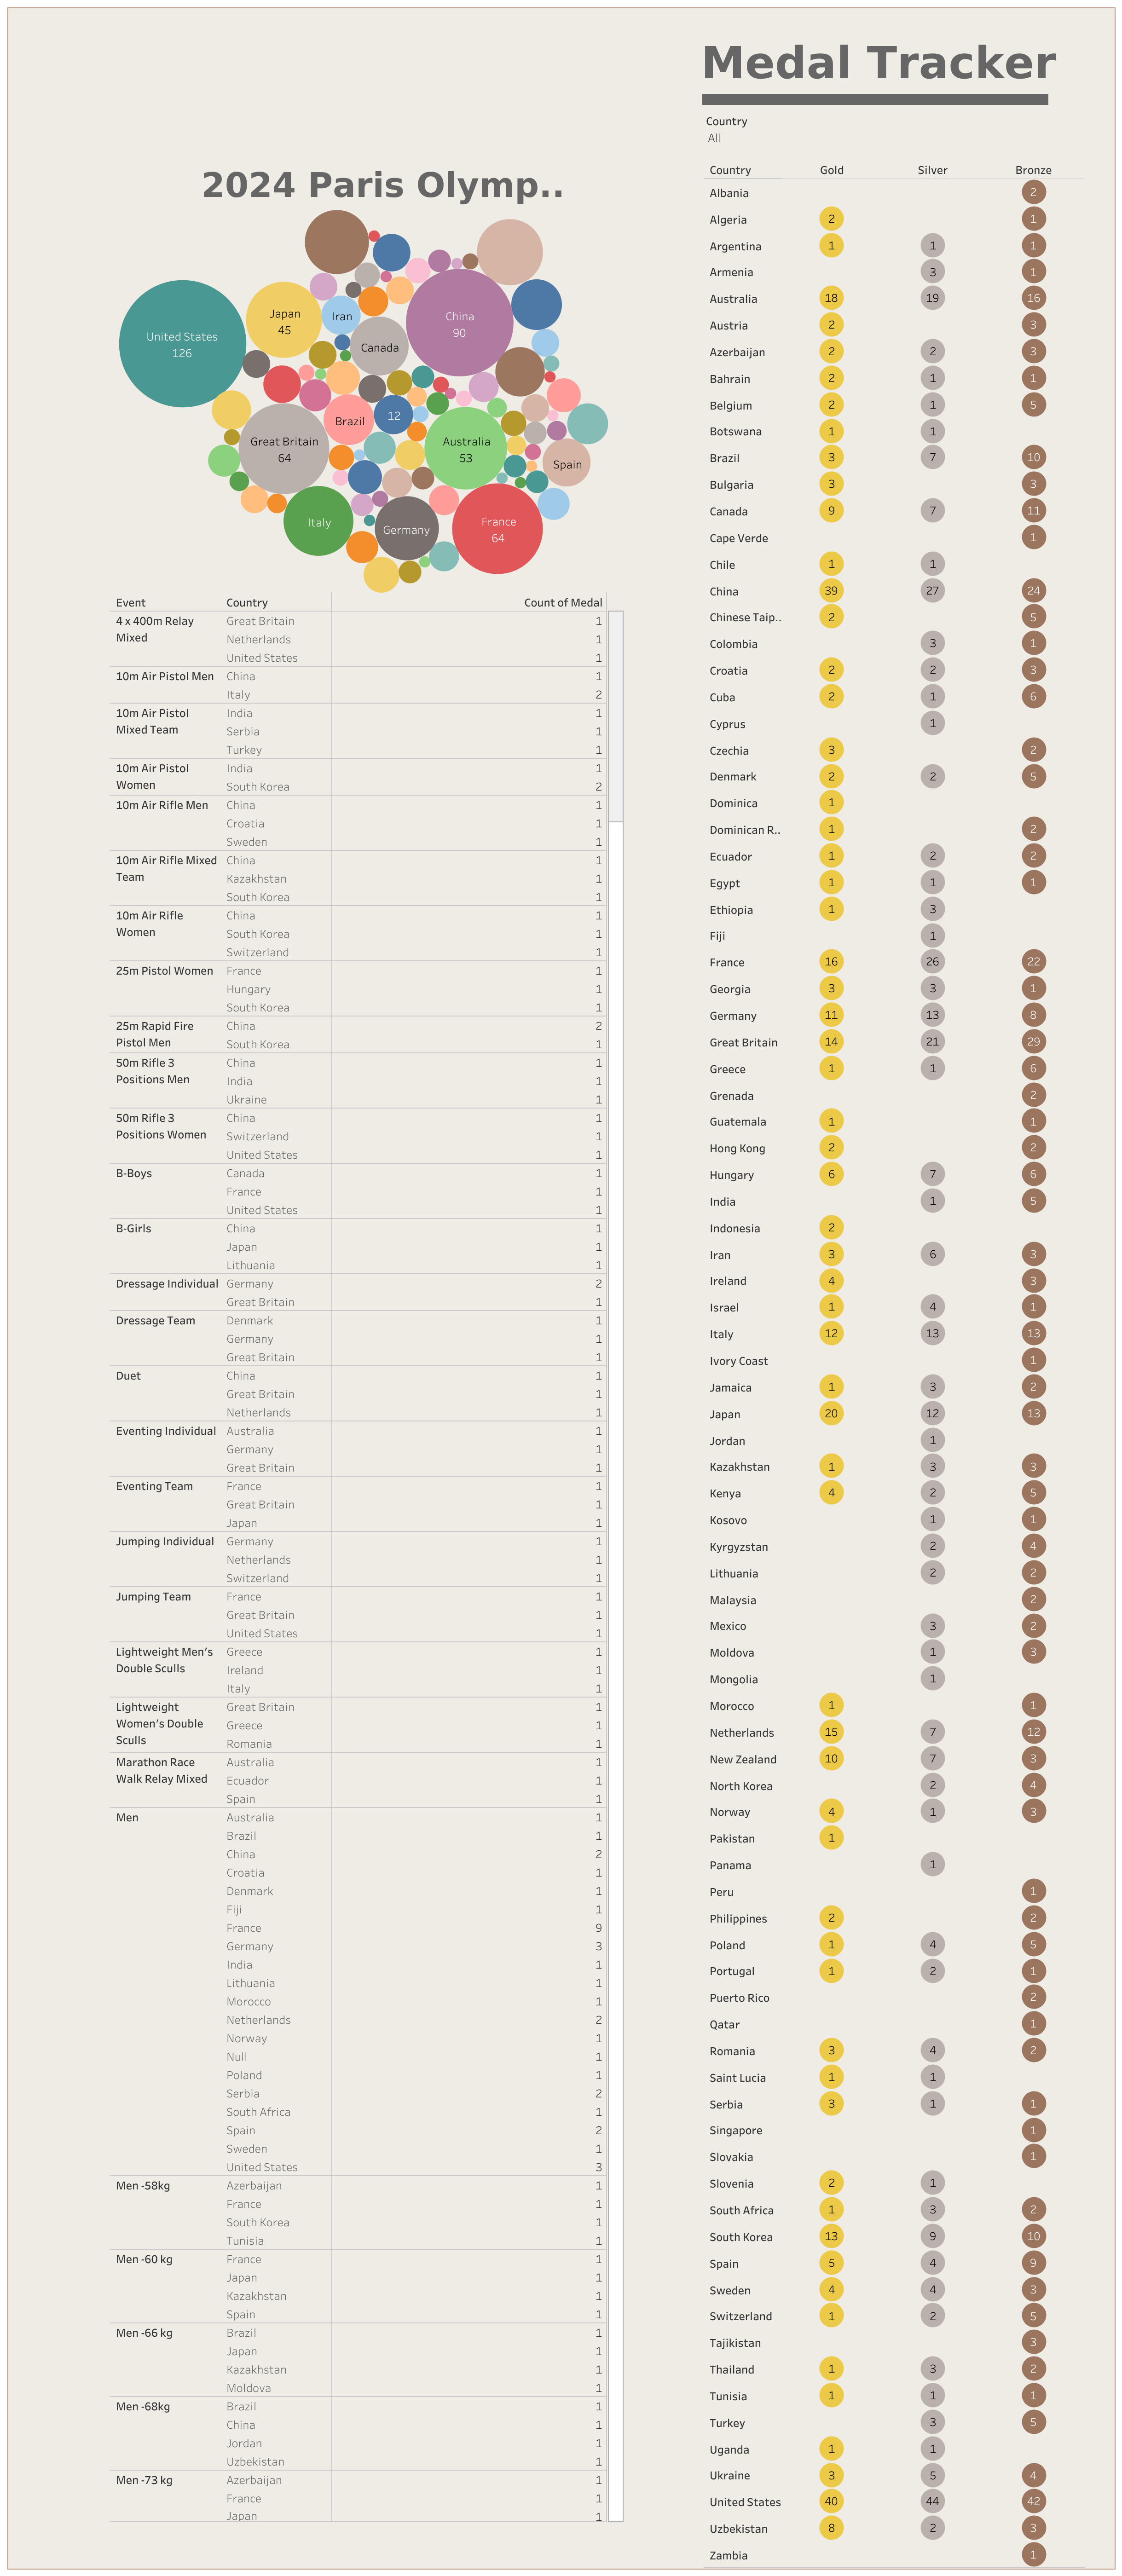

What the dashboard file says about the page in this screenshot:
{"tool":"tableau","page":{"name":"Dashboard 1","canvas":[1220,2800],"ordinal":0},"visuals":[{"type":"text","box":[759,14.9,400,106.4]},{"type":"image","box":[294,79.3,182,122.3]},{"type":"blank","box":[763,101.7,376,12.1]},{"type":"filter","title":"Sheet 2","param":"[federated.1wdxrhv1gxh4mg1awi5gi01daxih].[none:National Olympic Committee:nk]","box":[767,121,237,47]},{"type":"text","box":[216,157.7,400,84.9]},{"type":"worksheet","title":"Sheet 2","mark":"Circle","rows":["National Olympic Committee"],"cols":["Medal"],"box":[765,173.6,414,2617.1]},{"type":"worksheet","title":"Sheet 3","mark":"Circle","box":[128,208,533,457]},{"type":"worksheet","title":"Sheet 4","mark":"Automatic","rows":["Event","National Olympic Committee"],"box":[120,644,558,2097]}]}

Visuals, with their boxes in screenshot pixels (x1, y1, x2, y2), scaled from the page's 1220x2800 canvas onto the 1122x2576 screenshot:
text: Rect(698, 14, 1066, 112)
image: Rect(271, 73, 438, 185)
blank: Rect(702, 93, 1047, 105)
"Sheet 2" filter: Rect(706, 111, 923, 155)
text: Rect(199, 145, 567, 223)
"Sheet 2" worksheet (Circle marks): Rect(704, 160, 1084, 2567)
"Sheet 3" worksheet (Circle marks): Rect(118, 191, 608, 612)
"Sheet 4" worksheet: Rect(110, 593, 624, 2522)
